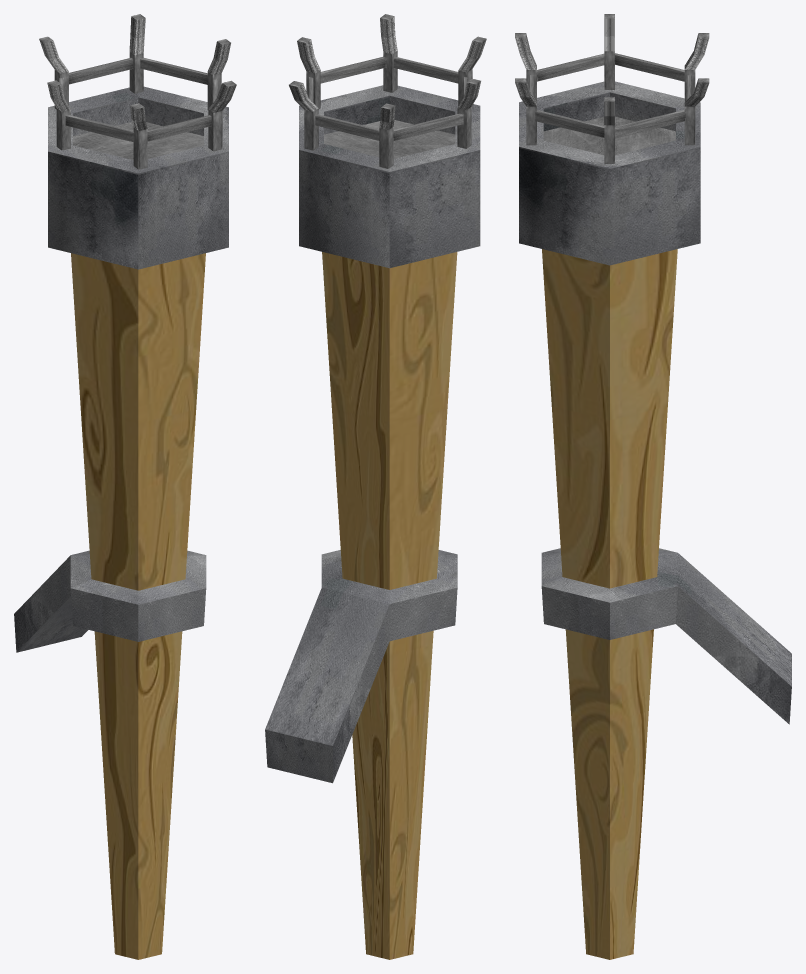
File: torch_wall.FBX
3 views of the same model, side by side, from view 1: azimuth 30°, elevation 25°; view 2: azimuth 150°, elevation 25°; view 3: azimuth 270°, elevation 25° (orthographic).
Visible parts, largest first — view 1: Cylinder001; view 2: Cylinder001; view 3: Cylinder001.
Boxes of the visible parts, left/top/right/bottom form: Cylinder001: left=14, top=14, right=236, bottom=959; Cylinder001: left=265, top=14, right=486, bottom=959; Cylinder001: left=515, top=14, right=791, bottom=959.
Size of the model in its own units: 5.91 by 7.79 by 27.66.
